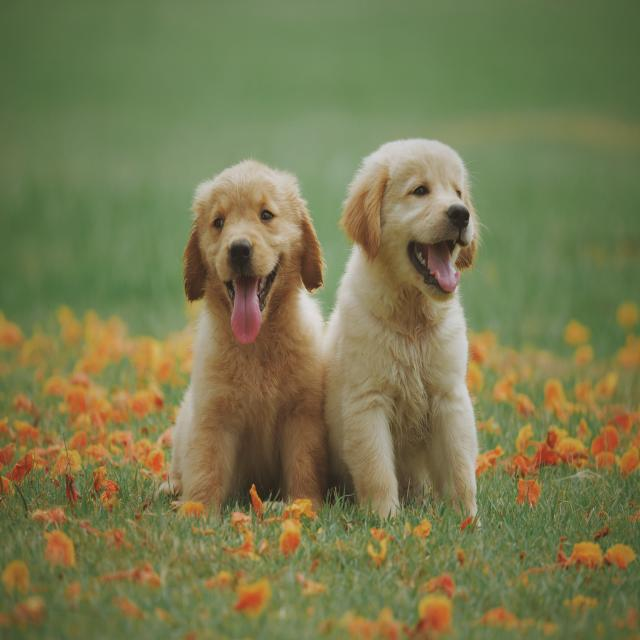animal: (170, 135, 330, 541), (334, 137, 484, 530)
